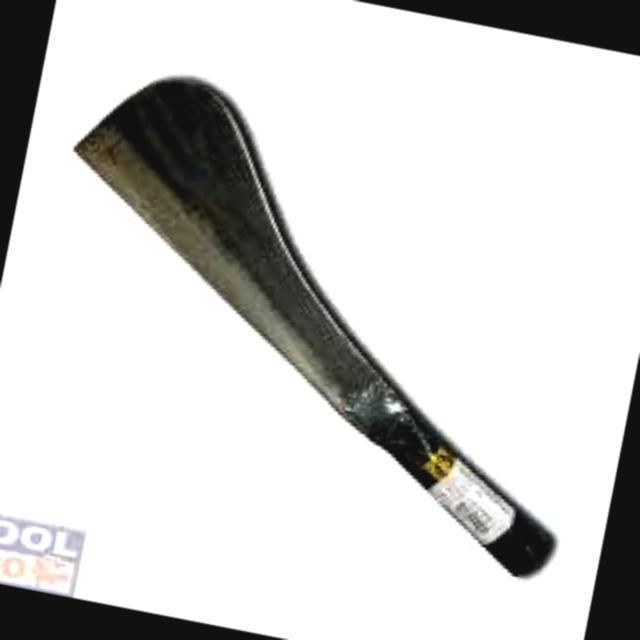eto: (65, 67, 574, 589)
